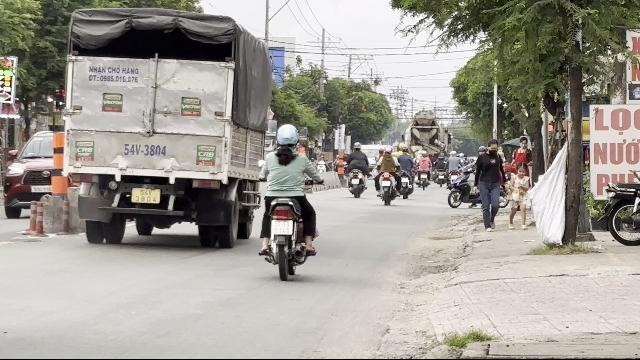helmet: (274, 124, 298, 150)
licenseplate: (272, 219, 292, 234)
motorcyclist: (253, 122, 321, 278)
